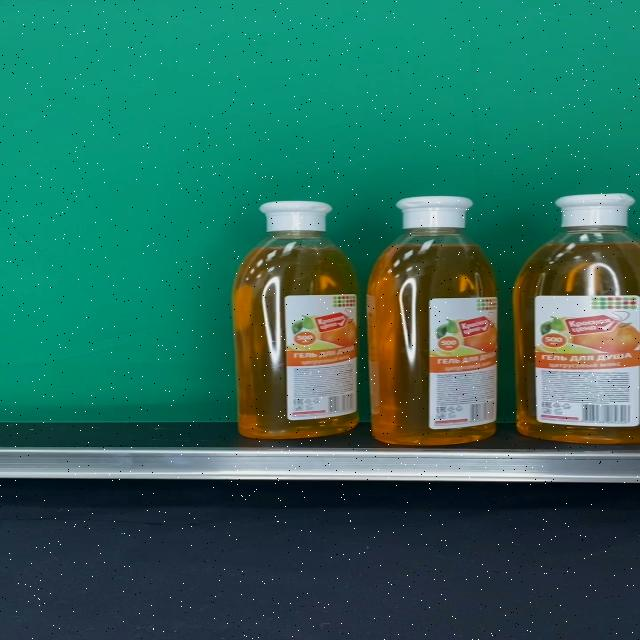Bottle: (369, 196, 498, 445), (514, 193, 640, 445), (233, 200, 358, 438)
Cap: (555, 194, 636, 228), (396, 197, 474, 229), (258, 200, 332, 232)
